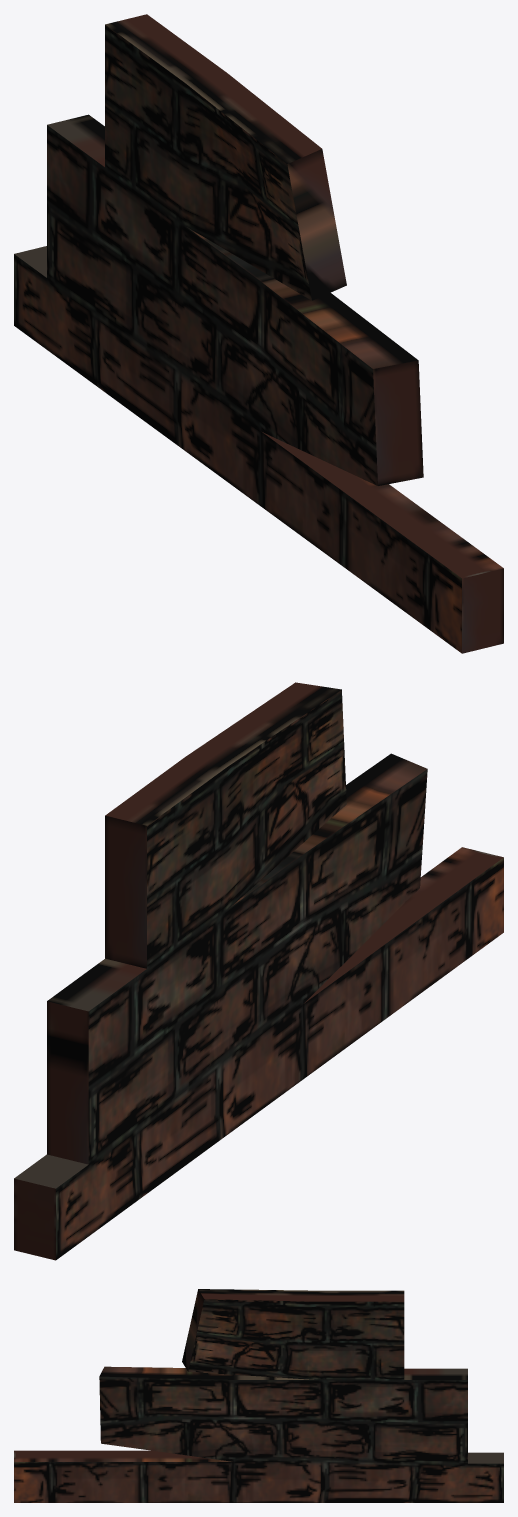
File: BrickBldHoleVer_5.fbx
The picture shows the model from 3 angles, top to bottom: view 1: azimuth 30°, elevation 25°; view 2: azimuth 150°, elevation 25°; view 3: azimuth 270°, elevation 25°; orthographic projection. The views are drawn at different scales.
Parts seen in each view (by area): view 1: pCube699; view 2: pCube699; view 3: pCube699.
Boxes of the visible parts, x1,y1,x2,y2 form: pCube699: (14,14,503,653); pCube699: (14,682,503,1260); pCube699: (14,1289,503,1502).
Size of the model in its own units: 0.6043 by 4.21 by 9.27.
